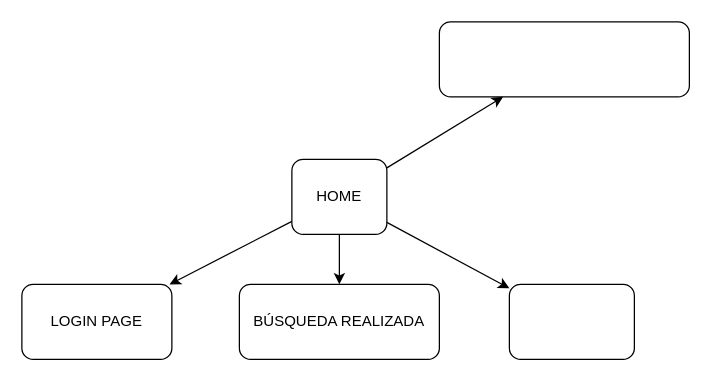
This 711x381 diagram has some shape labels left out. Here are the shapes that lost their labels. From the top down, the centre of each, then its label:
At (x=563, y=59): "PÁGINA EN MODO OSCURO".
At (x=571, y=321): "CONTACTO".
